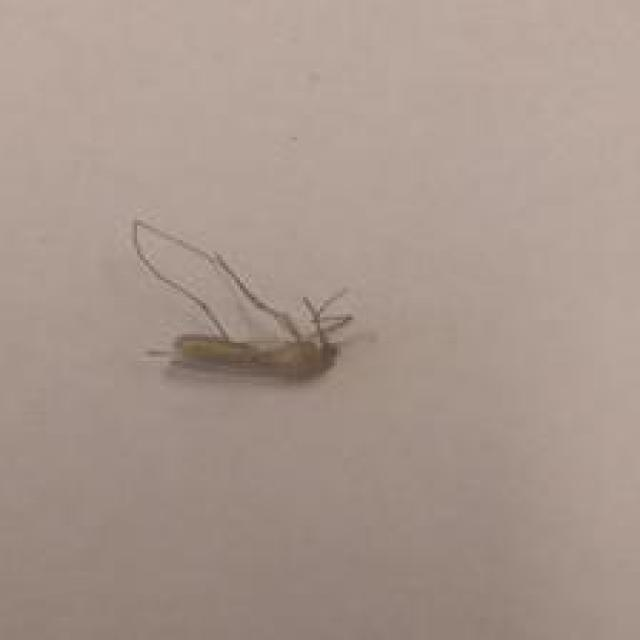Culex: (128, 216, 366, 381)
